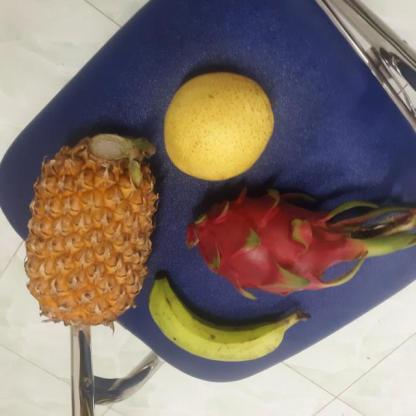banana: (145, 276, 297, 365)
pear: (160, 68, 274, 180)
pineapple: (25, 126, 158, 326)
pitaya: (174, 185, 358, 299)
